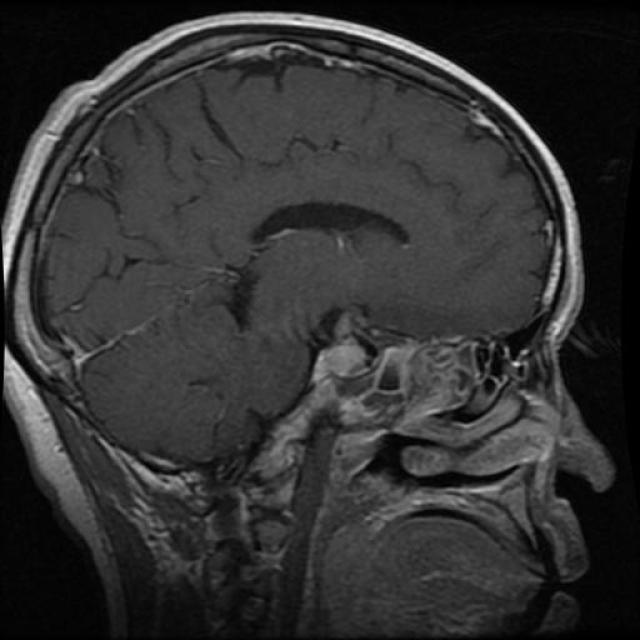pituitary: (272, 303, 409, 452)
